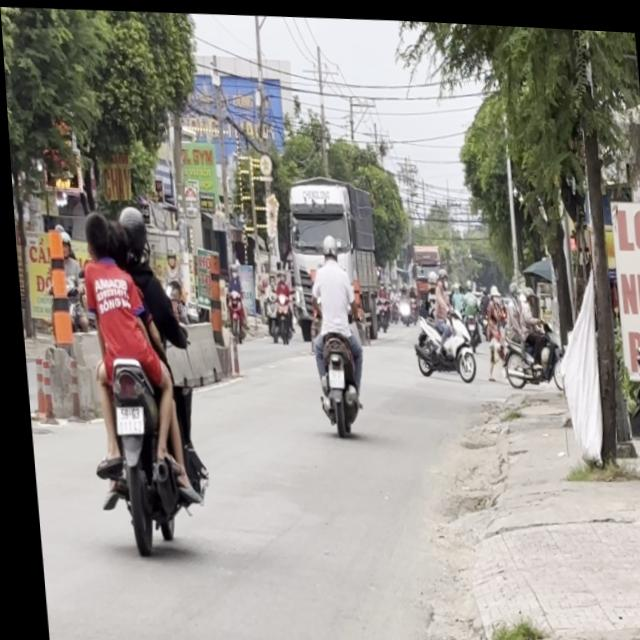helmet: (110, 200, 146, 268), (316, 226, 333, 255)
licenseplate: (67, 197, 203, 554), (297, 226, 363, 433)
motorcyclist: (77, 207, 108, 257)
nohelmet: (108, 403, 136, 432), (320, 363, 337, 383)
